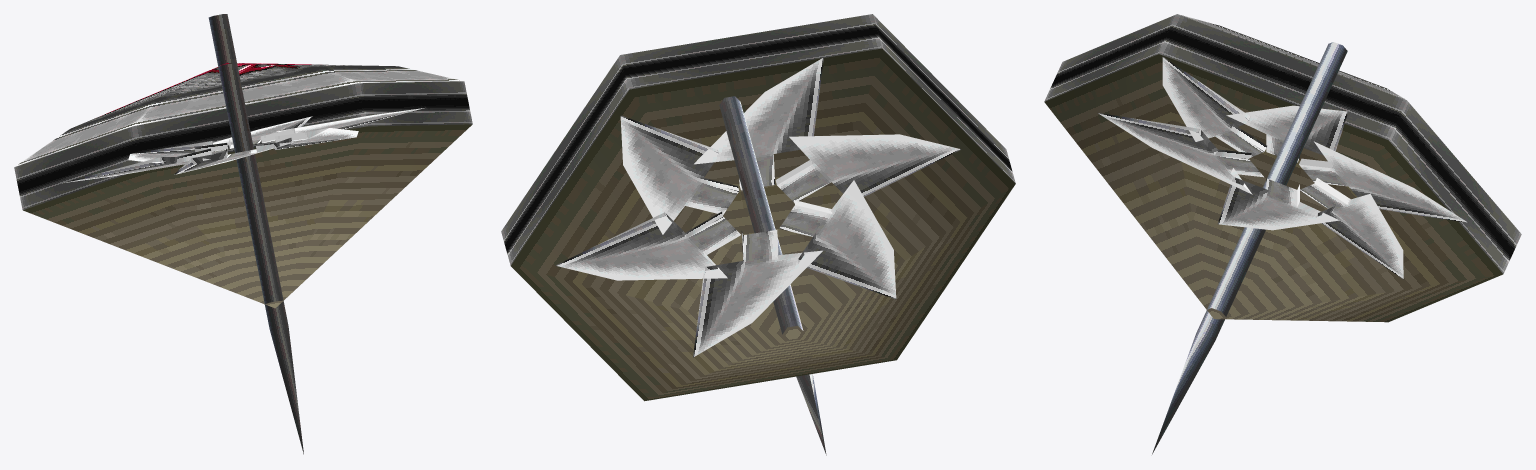
File: ps2_save-icons_hissatsuurakagyou.glb
3 renders of one model, left to right at view 1: azimuth 30°, elevation 25°; view 2: azimuth 150°, elevation 25°; view 3: azimuth 270°, elevation 25°, orthographic. The views are drawn at different scales.
Parts seen in each view (by area): view 1: STATIC.ICO; view 2: STATIC.ICO; view 3: STATIC.ICO.
Part boxes in pixels (x1,y1,x2,y2): STATIC.ICO: (14, 14, 472, 454); STATIC.ICO: (501, 14, 1015, 455); STATIC.ICO: (1044, 14, 1521, 454).
Bounding box in the file's own units: 2.33 × 2.46 × 2.58.
1 material, 1 textured.
